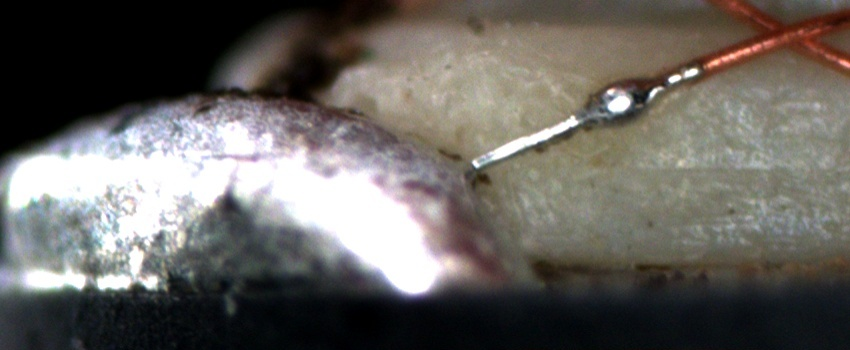CL: (740, 6, 837, 62)
DL: (540, 135, 850, 199), (647, 69, 850, 109)
TB: (583, 71, 670, 132)
TS: (471, 63, 704, 168)
TTCW: (465, 44, 749, 176)
